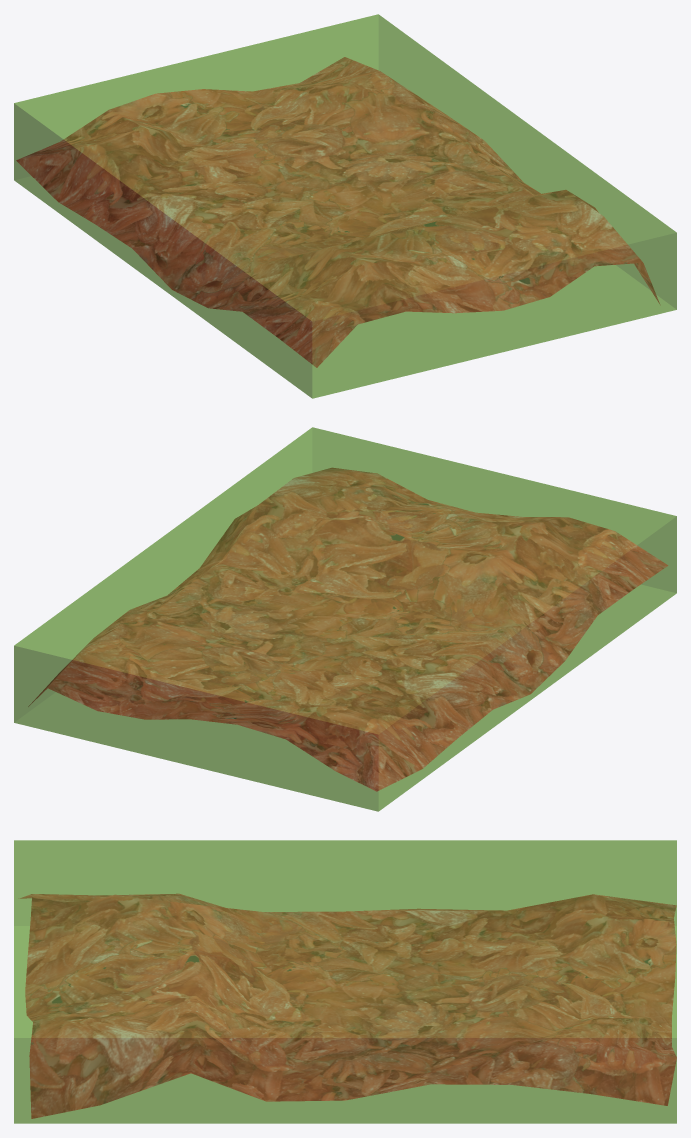
Rendered from pg_dried_fruit_02_c.fbx.
The picture shows the model from 3 angles, top to bottom: view 1: azimuth 30°, elevation 25°; view 2: azimuth 150°, elevation 25°; view 3: azimuth 270°, elevation 25°; orthographic projection. The views are drawn at different scales.
Parts seen in each view (by area): view 1: pg_dried_fruit_02_c_col, pg_dried_fruit_02_c_LOD0; view 2: pg_dried_fruit_02_c_col, pg_dried_fruit_02_c_LOD0; view 3: pg_dried_fruit_02_c_col, pg_dried_fruit_02_c_LOD0.
Boxes of the visible parts, x1=… form: pg_dried_fruit_02_c_col: x1=14, y1=14, x2=676, y2=398; pg_dried_fruit_02_c_LOD0: x1=16, y1=57, x2=659, y2=367; pg_dried_fruit_02_c_col: x1=14, y1=427, x2=676, y2=811; pg_dried_fruit_02_c_LOD0: x1=28, y1=467, x2=667, y2=791; pg_dried_fruit_02_c_col: x1=14, y1=840, x2=676, y2=1123; pg_dried_fruit_02_c_LOD0: x1=20, y1=893, x2=676, y2=1118.
Size of what is drawn, in the model's own units: 29.91 by 6.05 by 42.4.
